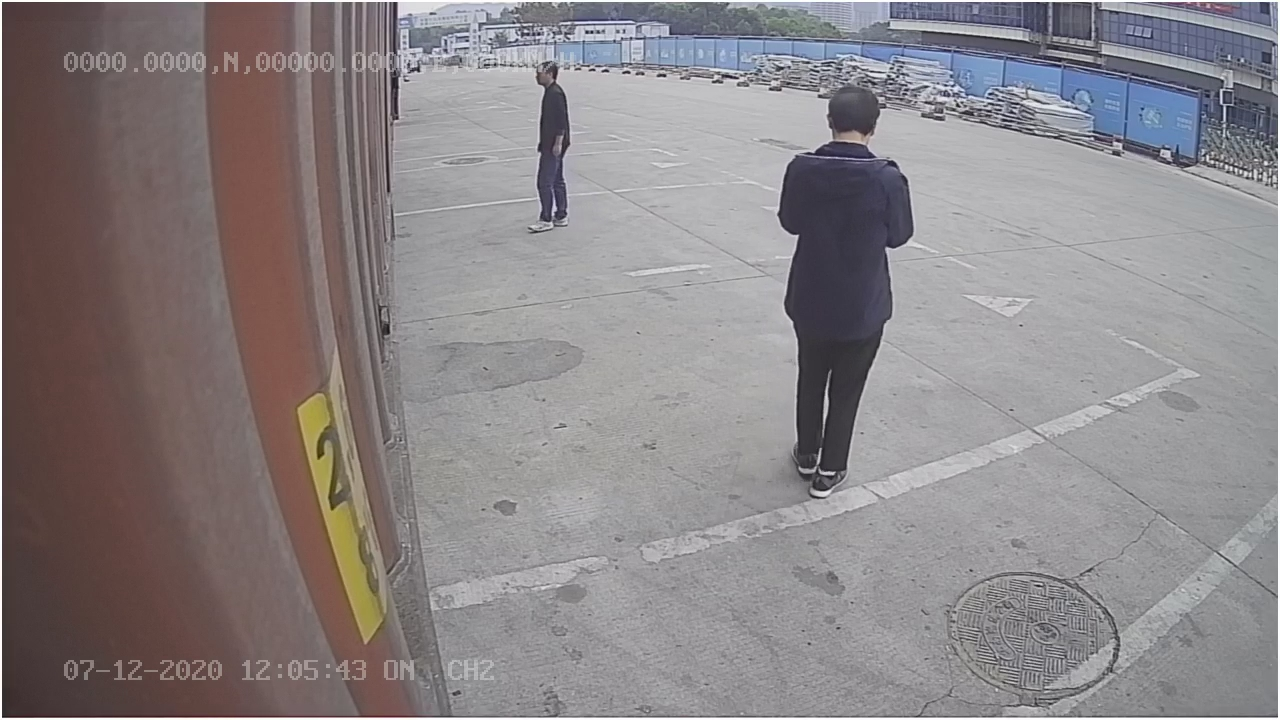person: (775, 85, 920, 498)
